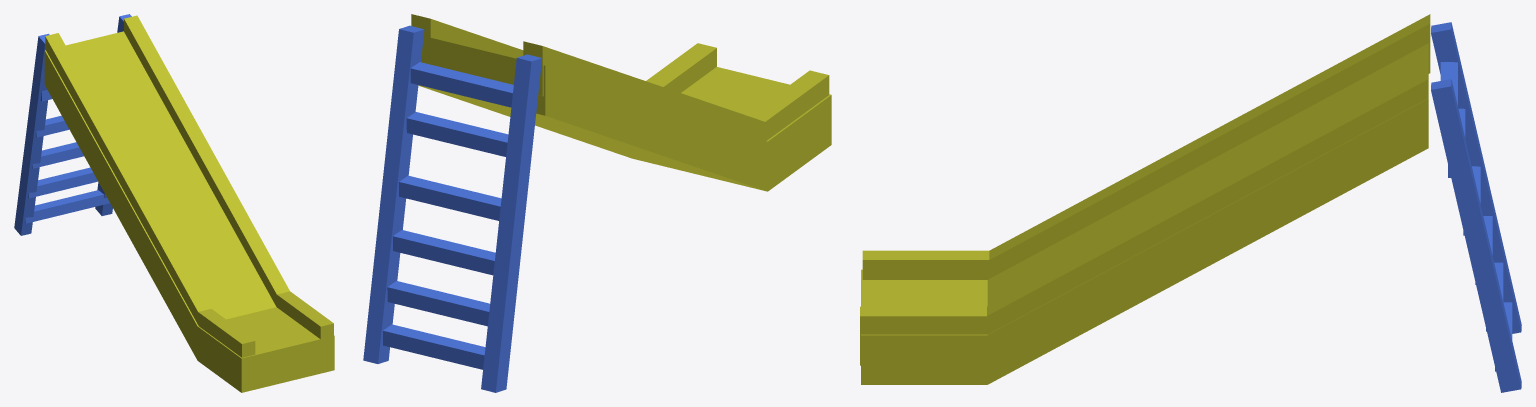
File: 滑り台.fbx
3 renders of one model, left to right at view 1: azimuth 30°, elevation 25°; view 2: azimuth 150°, elevation 25°; view 3: azimuth 270°, elevation 25°, orthographic. The views are drawn at different scales.
Visible parts, largest first — view 1: Cube, Cube.001, 立方体.001, 立方体.007, 立方体.006, 立方体.005, 立方体.004, 立方体; view 2: Cube, Cube.001, 立方体.001, 立方体, 立方体.002, 立方体.006, 立方体.005, 立方体.007, 立方体.004, 立方体.003; view 3: Cube, Cube.001, 立方体, 立方体.001.
Boxes of the visible parts, left/top/right/bottom form: Cube: left=44, top=31, right=334, bottom=392; Cube.001: left=45, top=15, right=333, bottom=360; 立方体.001: left=14, top=33, right=49, bottom=235; 立方体.007: left=25, top=190, right=109, bottom=223; 立方体.006: left=28, top=167, right=97, bottom=198; 立方体.005: left=32, top=142, right=83, bottom=168; 立方体.004: left=36, top=115, right=69, bottom=137; 立方体: left=95, top=14, right=131, bottom=215; Cube: left=418, top=36, right=831, bottom=191; Cube.001: left=411, top=14, right=829, bottom=140; 立方体.001: left=481, top=54, right=542, bottom=392; 立方体: left=363, top=25, right=424, bottom=363; 立方体.002: left=410, top=62, right=513, bottom=107; 立方体.006: left=387, top=281, right=489, bottom=326; 立方体.005: left=393, top=230, right=495, bottom=275; 立方体.007: left=383, top=324, right=485, bottom=369; 立方体.004: left=399, top=175, right=501, bottom=220; 立方体.003: left=406, top=112, right=508, bottom=156; Cube: left=861, top=43, right=1428, bottom=384; Cube.001: left=860, top=14, right=1430, bottom=365; 立方体: left=1431, top=79, right=1521, bottom=392; 立方体.001: left=1431, top=22, right=1521, bottom=333.
Size of the model in its own units: 215 by 480 by 916.
